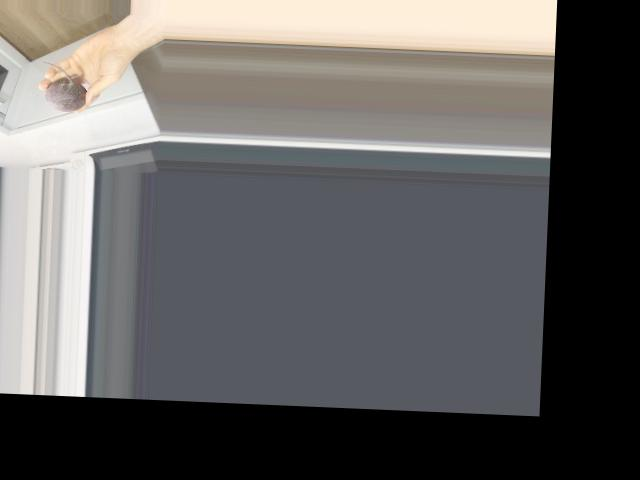beet: (40, 61, 87, 112)
